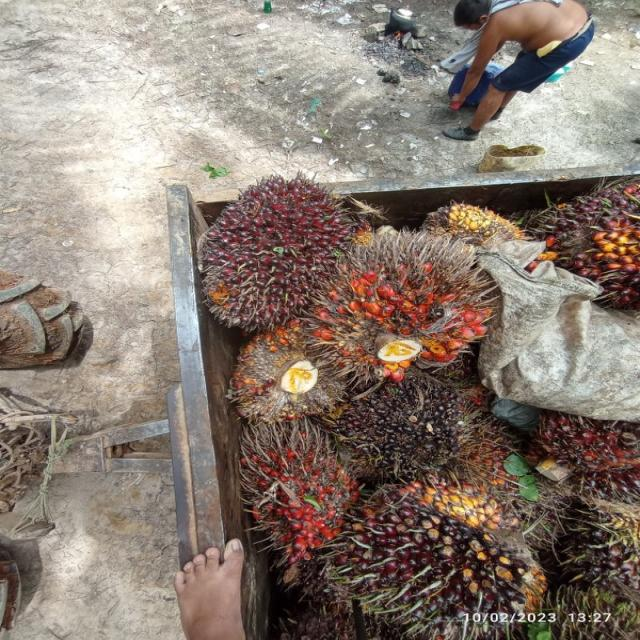fraksi 00: (327, 484, 544, 634), (332, 372, 472, 473)
fraksi 1: (187, 175, 352, 336)
fraksi 4: (304, 208, 521, 380), (213, 426, 364, 570)
